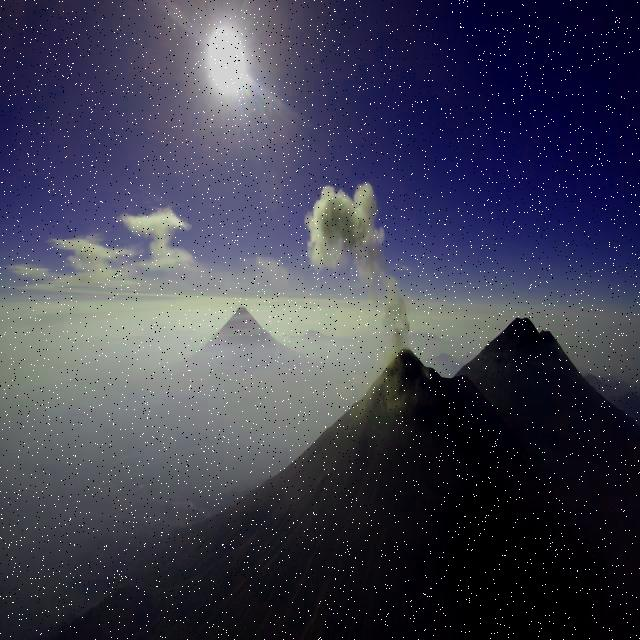Plume: (303, 182, 386, 278), (382, 270, 412, 348)
Summit: (353, 342, 492, 408)
